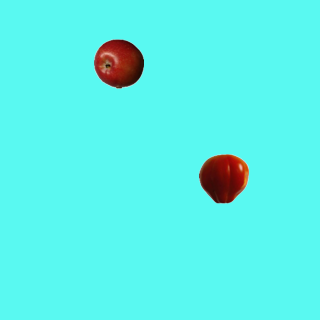Apple Braeburn: (93, 38, 143, 88)
Tomato 1: (198, 153, 248, 203)
